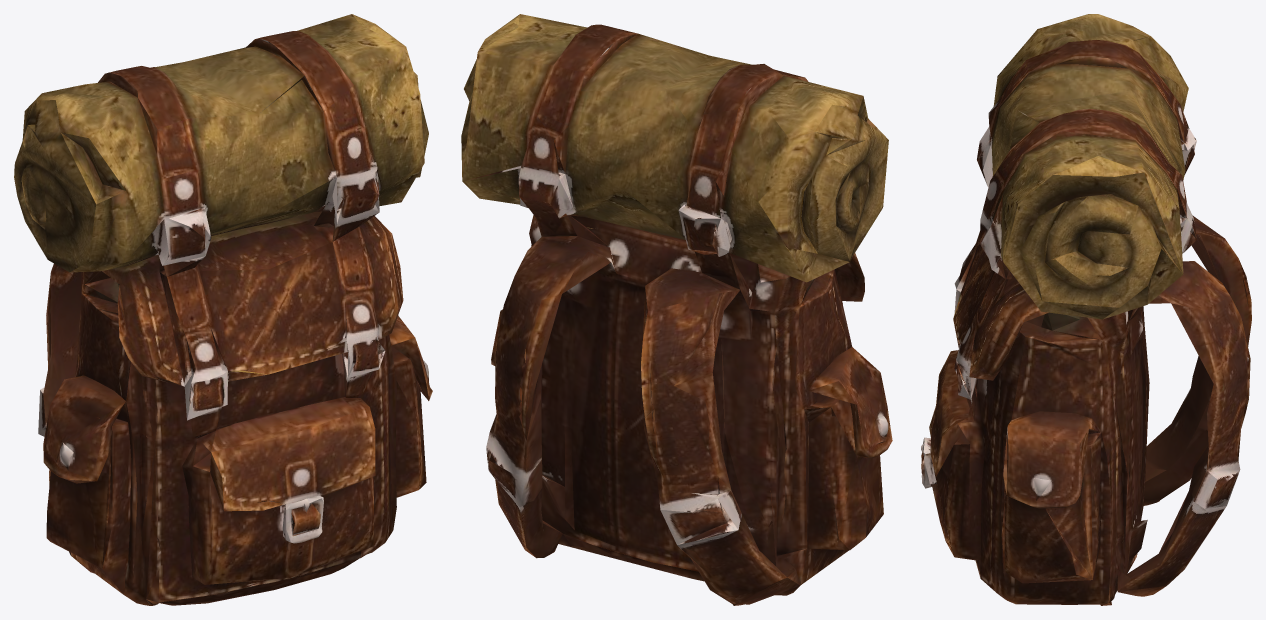
The model's file is backpack.glb.
The picture shows the model from 3 angles, left to right: view 1: azimuth 30°, elevation 25°; view 2: azimuth 150°, elevation 25°; view 3: azimuth 270°, elevation 25°; orthographic projection. The views are drawn at different scales.
Visible parts, largest first — view 1: Mesh_0; view 2: Mesh_0; view 3: Mesh_0.
Part boxes in pixels (x1,y1,x2,y2): Mesh_0: (14, 14, 432, 605); Mesh_0: (461, 14, 892, 605); Mesh_0: (921, 14, 1251, 605).
Size of the model in its own units: 1.5 by 1.9 by 1.21.
1 material, 1 textured.
